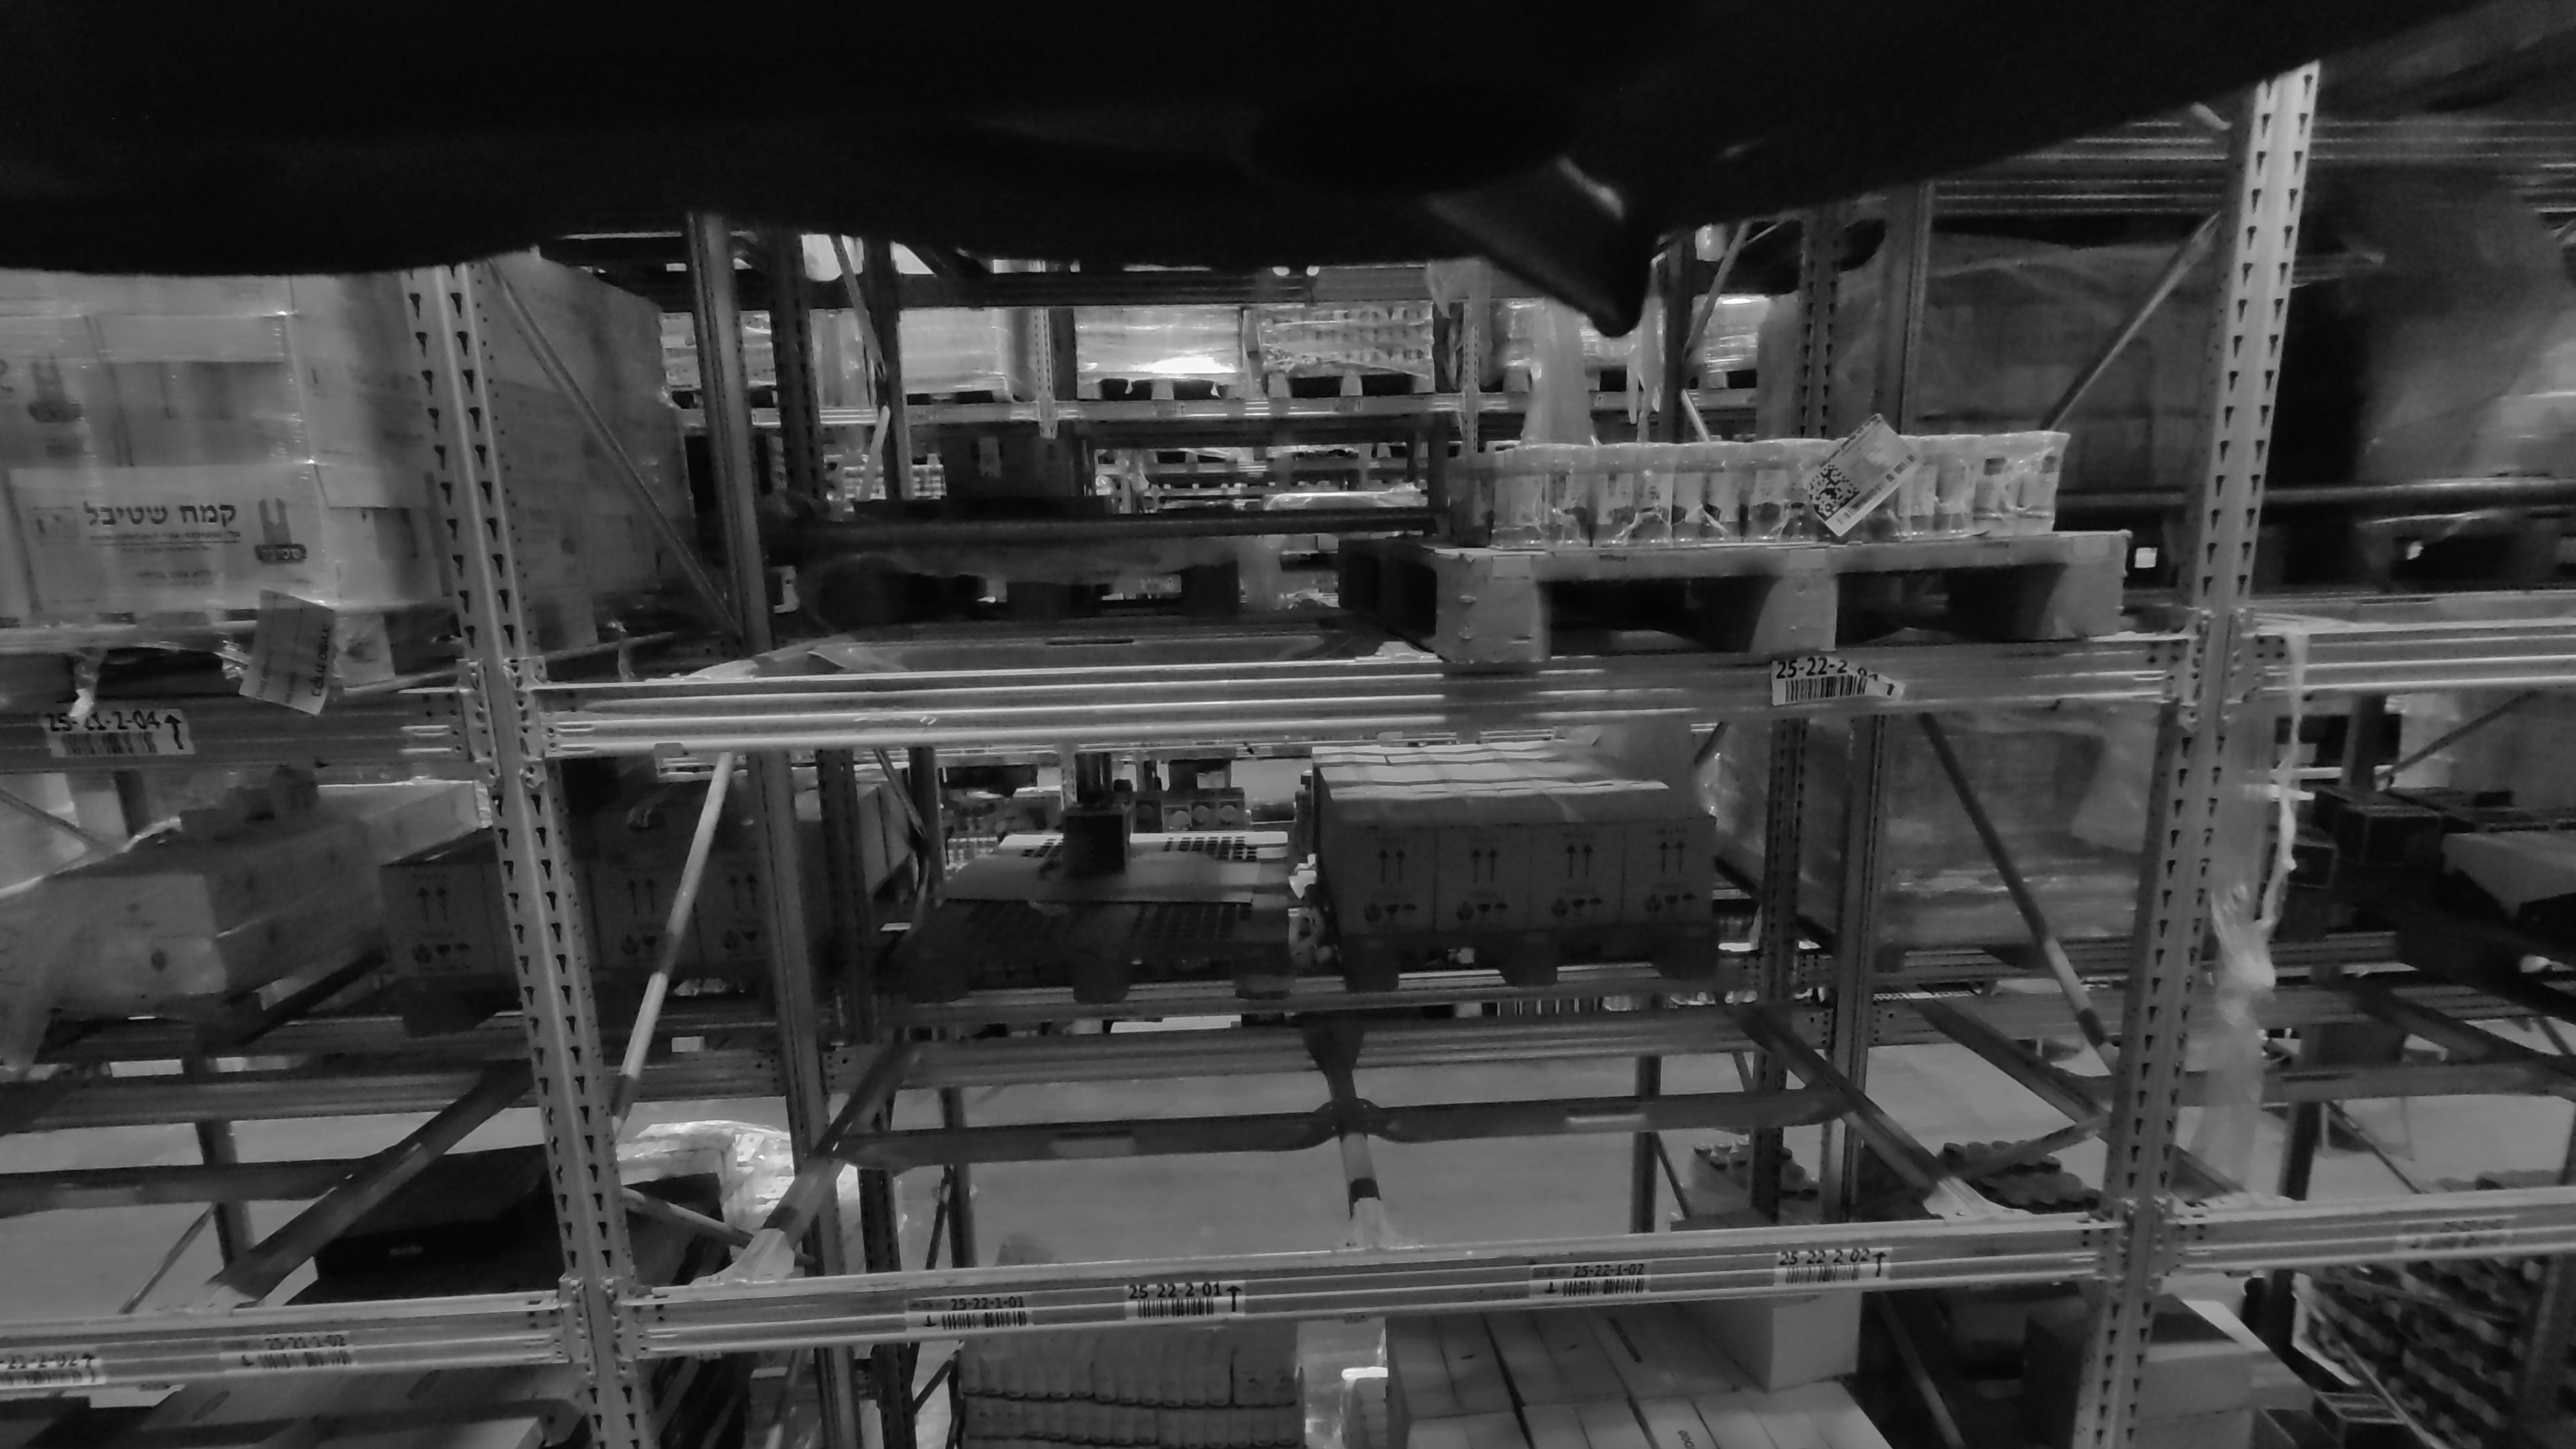empty-shelf: (587, 219, 1380, 679), (692, 755, 1369, 1261), (1412, 709, 2043, 1246), (2, 764, 531, 1295), (2288, 727, 2576, 1219)
